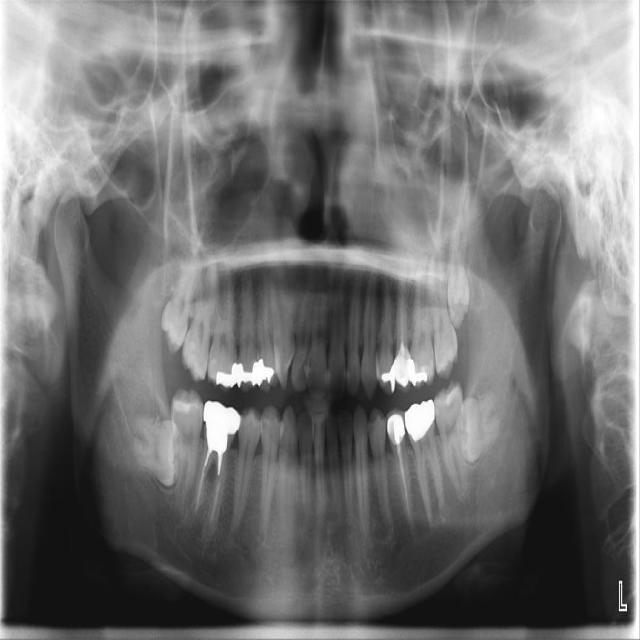Crown: (404, 398, 435, 444), (203, 401, 241, 435), (386, 406, 406, 447)
Filling: (394, 347, 412, 393), (232, 362, 258, 388), (377, 362, 395, 393), (214, 364, 237, 387), (256, 356, 271, 388), (413, 358, 430, 385)
Root Canal Treatment: (398, 448, 409, 515), (195, 466, 207, 511), (212, 475, 222, 518), (400, 287, 405, 349)
impacted tooth: (127, 418, 177, 486), (459, 382, 502, 461), (449, 182, 470, 323)
